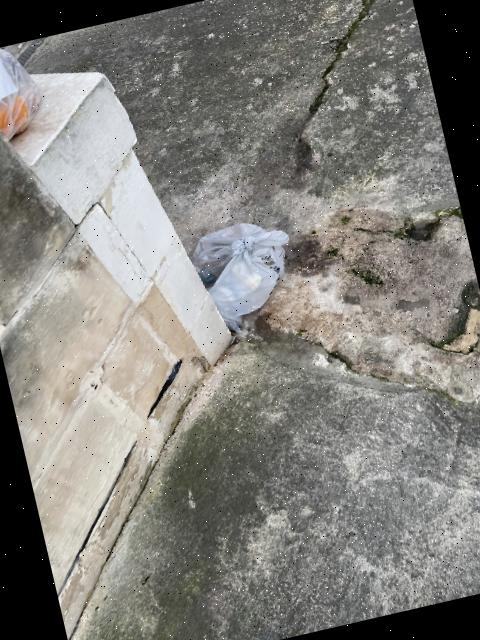Organic -White-: (193, 223, 288, 332), (0, 47, 40, 139)
